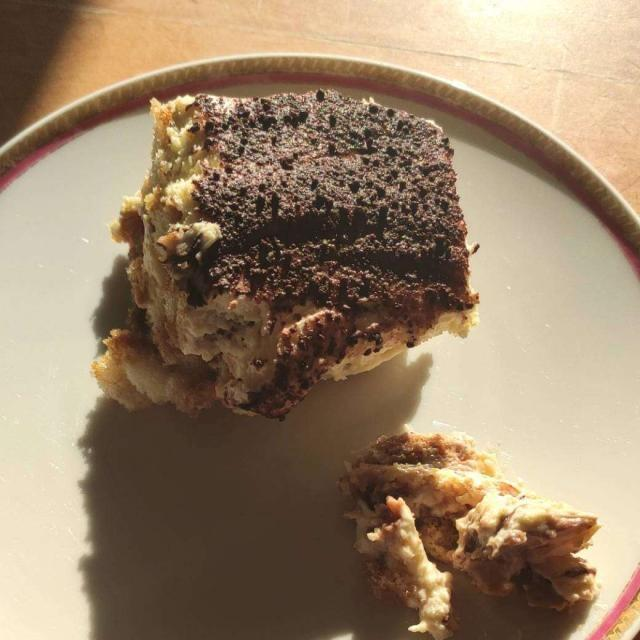tiramisu: (119, 77, 598, 622)
